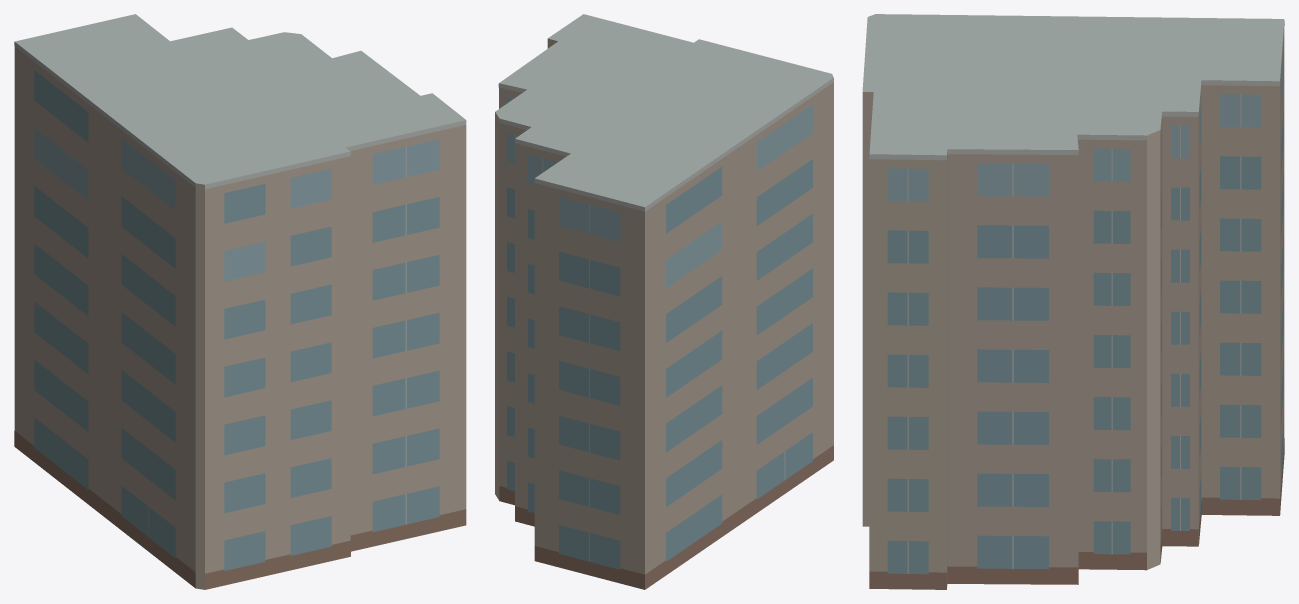
Rendered from survey-upis-32748039.glb.
3 views of the same model, side by side, from view 1: azimuth 30°, elevation 25°; view 2: azimuth 150°, elevation 25°; view 3: azimuth 270°, elevation 25° (orthographic). The views are drawn at different scales.
Visible parts, largest first — view 1: survey-upis-32748039.tmp; view 2: survey-upis-32748039.tmp; view 3: survey-upis-32748039.tmp.
Part boxes in pixels (x1,y1,x2,y2): survey-upis-32748039.tmp: [14, 14, 466, 589]; survey-upis-32748039.tmp: [495, 14, 833, 589]; survey-upis-32748039.tmp: [862, 14, 1284, 589].
Bounding box in the file's own units: 14.9 × 21.35 × 18.8.
